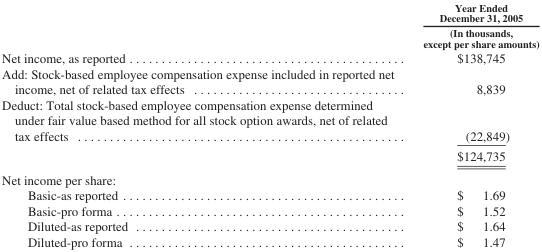table: (1, 0, 538, 248)
table column: (1, 0, 407, 248), (407, 0, 538, 248)
table column header: (1, 0, 538, 49)
table projected row header: (1, 167, 538, 187)
table row: (1, 0, 538, 49), (1, 96, 538, 145), (1, 65, 538, 96), (1, 145, 538, 167), (1, 167, 538, 187), (1, 49, 538, 65), (1, 202, 538, 218), (1, 187, 538, 202), (1, 218, 538, 233), (1, 233, 538, 248)
